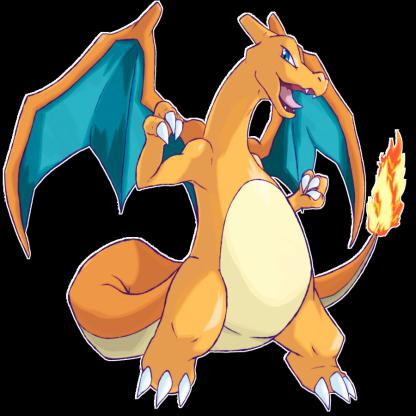Charizard: (1, 1, 416, 410)
